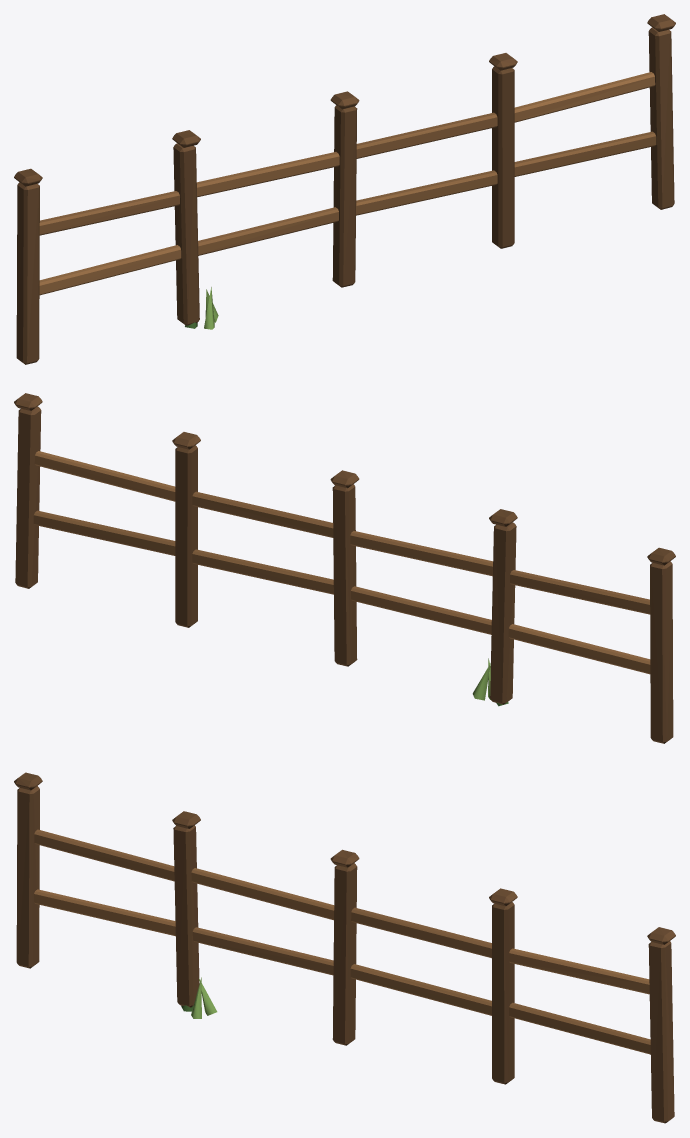
Rendered from rail-fence.glb.
3 renders of one model, top to bottom at view 1: azimuth 30°, elevation 25°; view 2: azimuth 150°, elevation 25°; view 3: azimuth 330°, elevation 25°, orthographic.
Visible parts, largest first — view 1: rail_fence; view 2: rail_fence; view 3: rail_fence.
Boxes of the visible parts, left/top/right/bottom form: rail_fence: left=14, top=14, right=675, bottom=364; rail_fence: left=14, top=393, right=675, bottom=743; rail_fence: left=14, top=772, right=675, bottom=1123.
Size of the model in its own units: 4.03 by 1.14 by 0.1673.
